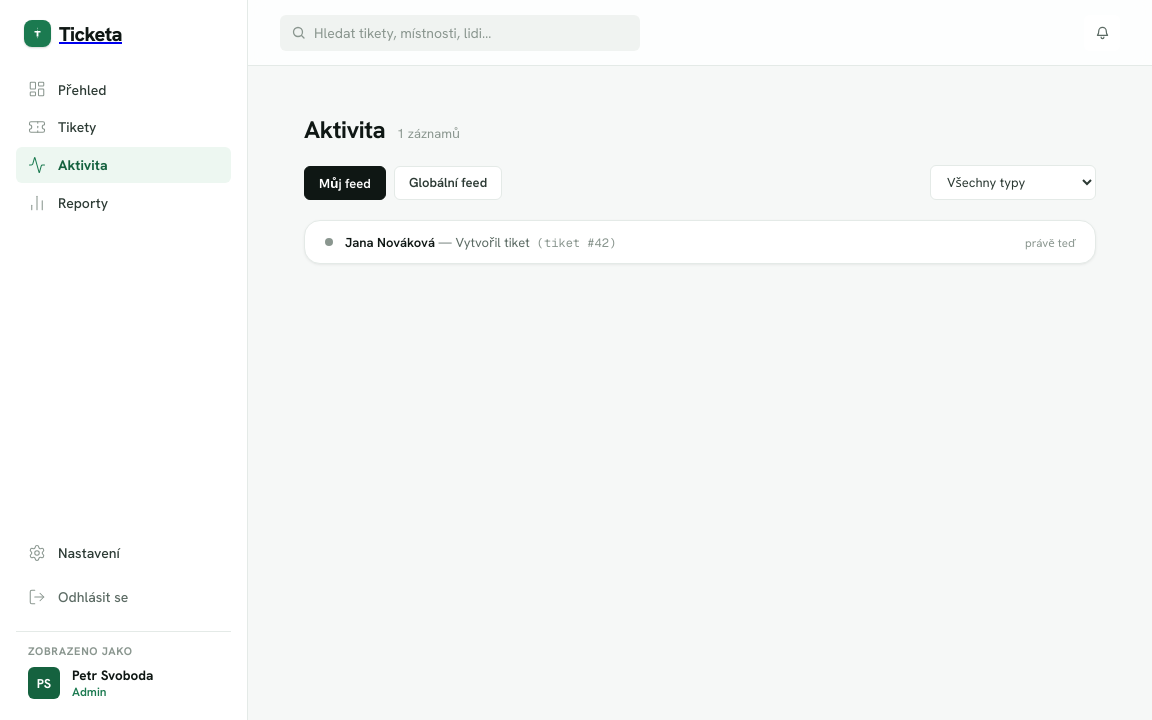
Scenario: ActivityPage › shows scope tabs for an admin and switches to the global feed
Check: the tab "Můj feed" is shown, box left=304, top=166, right=386, bottom=200
Check: the text "Jana Nováková" is shown, box left=345, top=234, right=435, bottom=251
Click the tab "Globální feed" at (448, 182), box left=394, top=166, right=502, bottom=200
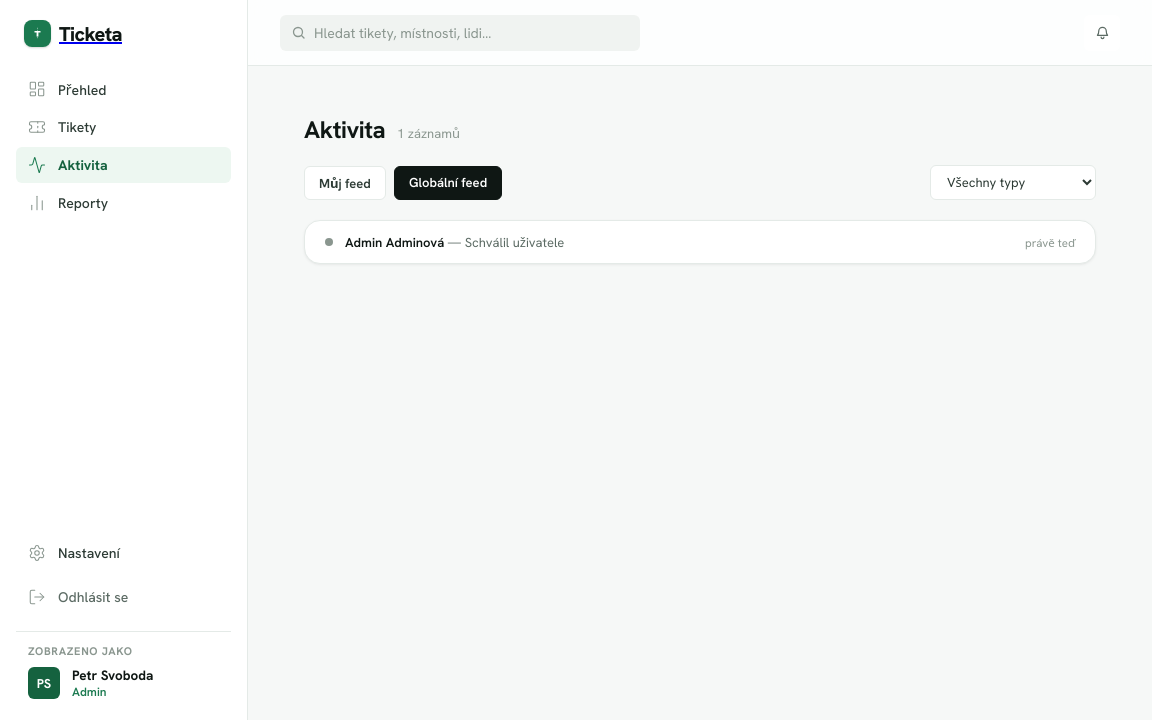
Check: the text "Admin Adminová" is shown, box left=345, top=234, right=444, bottom=251
